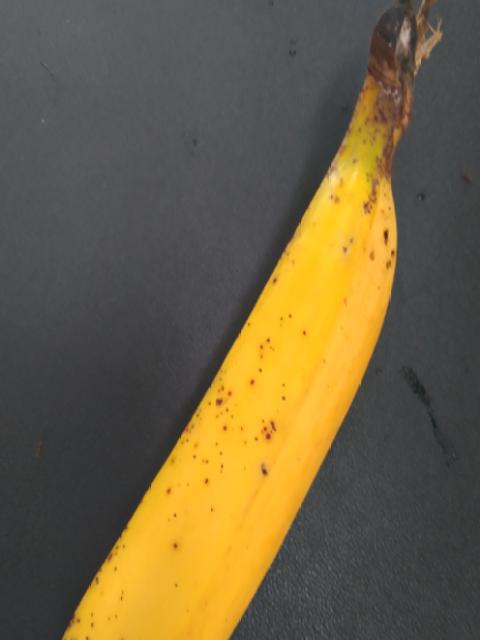ripe: (25, 132, 424, 639)
